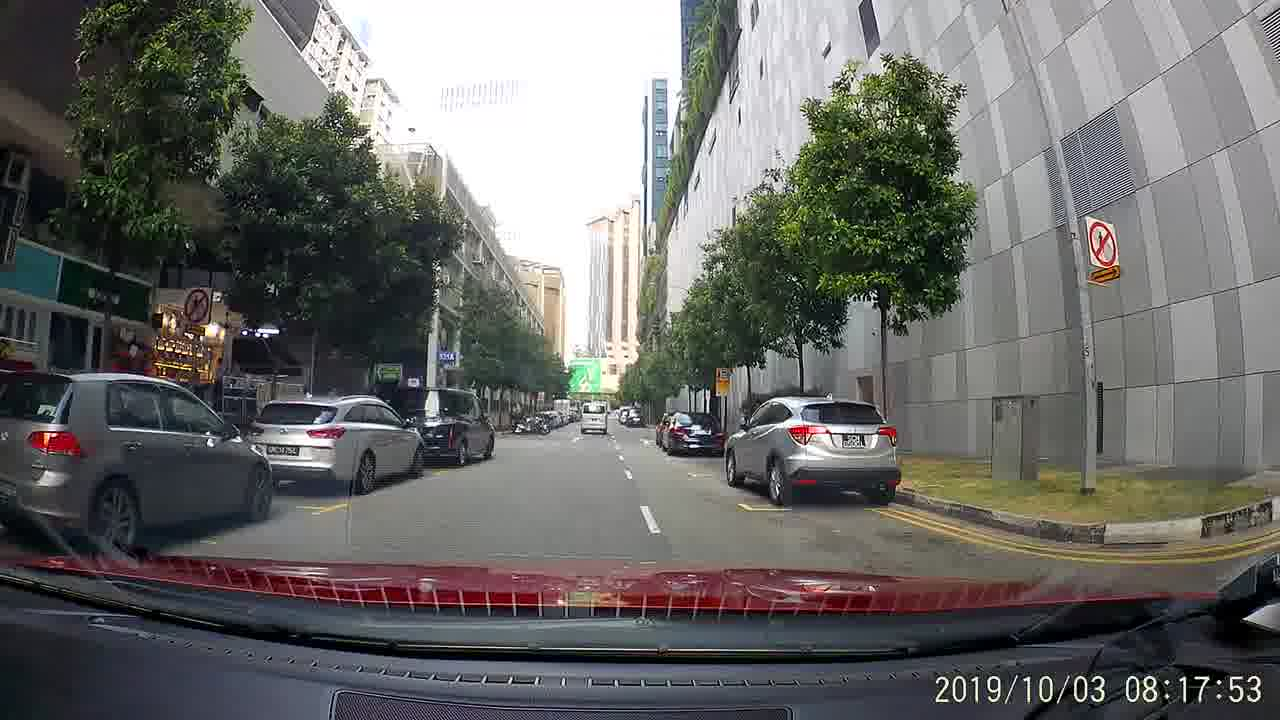car: (1, 368, 273, 558), (724, 392, 903, 505), (245, 388, 424, 491), (370, 382, 496, 469), (659, 408, 724, 458)
